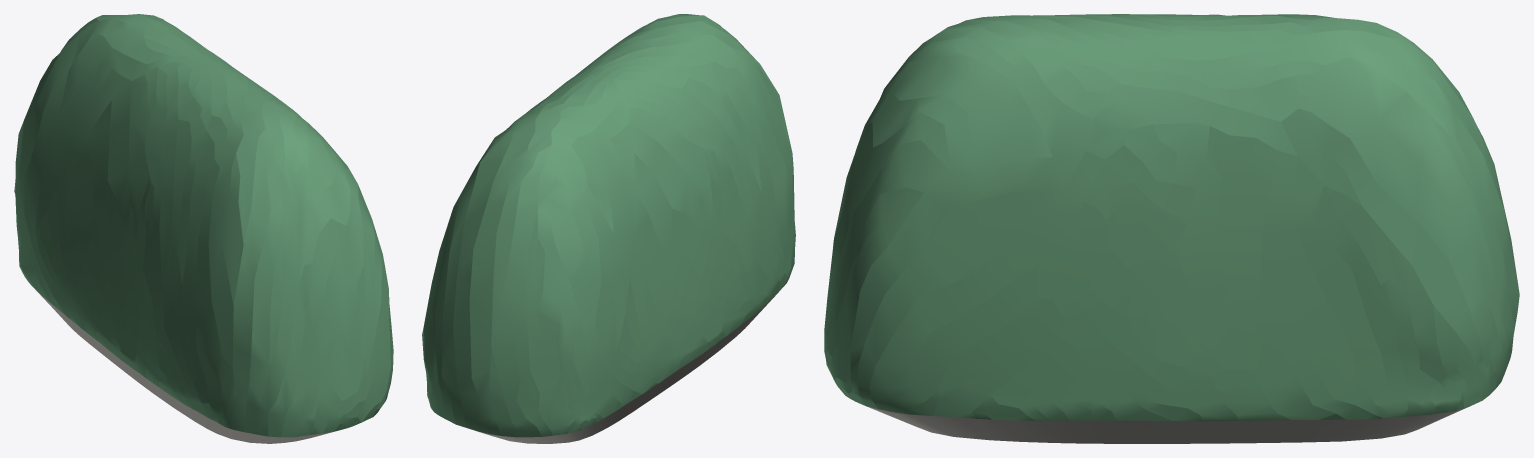
The model's file is island_asian_A.fbx.
The picture shows the model from 3 angles, left to right: view 1: azimuth 30°, elevation 25°; view 2: azimuth 150°, elevation 25°; view 3: azimuth 270°, elevation 25°; orthographic projection. The views are drawn at different scales.
Visible parts, largest first — view 1: island_asian_A; view 2: island_asian_A; view 3: island_asian_A.
Boxes of the visible parts, box(x1,y1,x2,y2) form: island_asian_A: box(14, 14, 393, 443); island_asian_A: box(422, 14, 795, 443); island_asian_A: box(824, 14, 1519, 443).
Size of the model in its own units: 1362 by 2160 by 3589.
